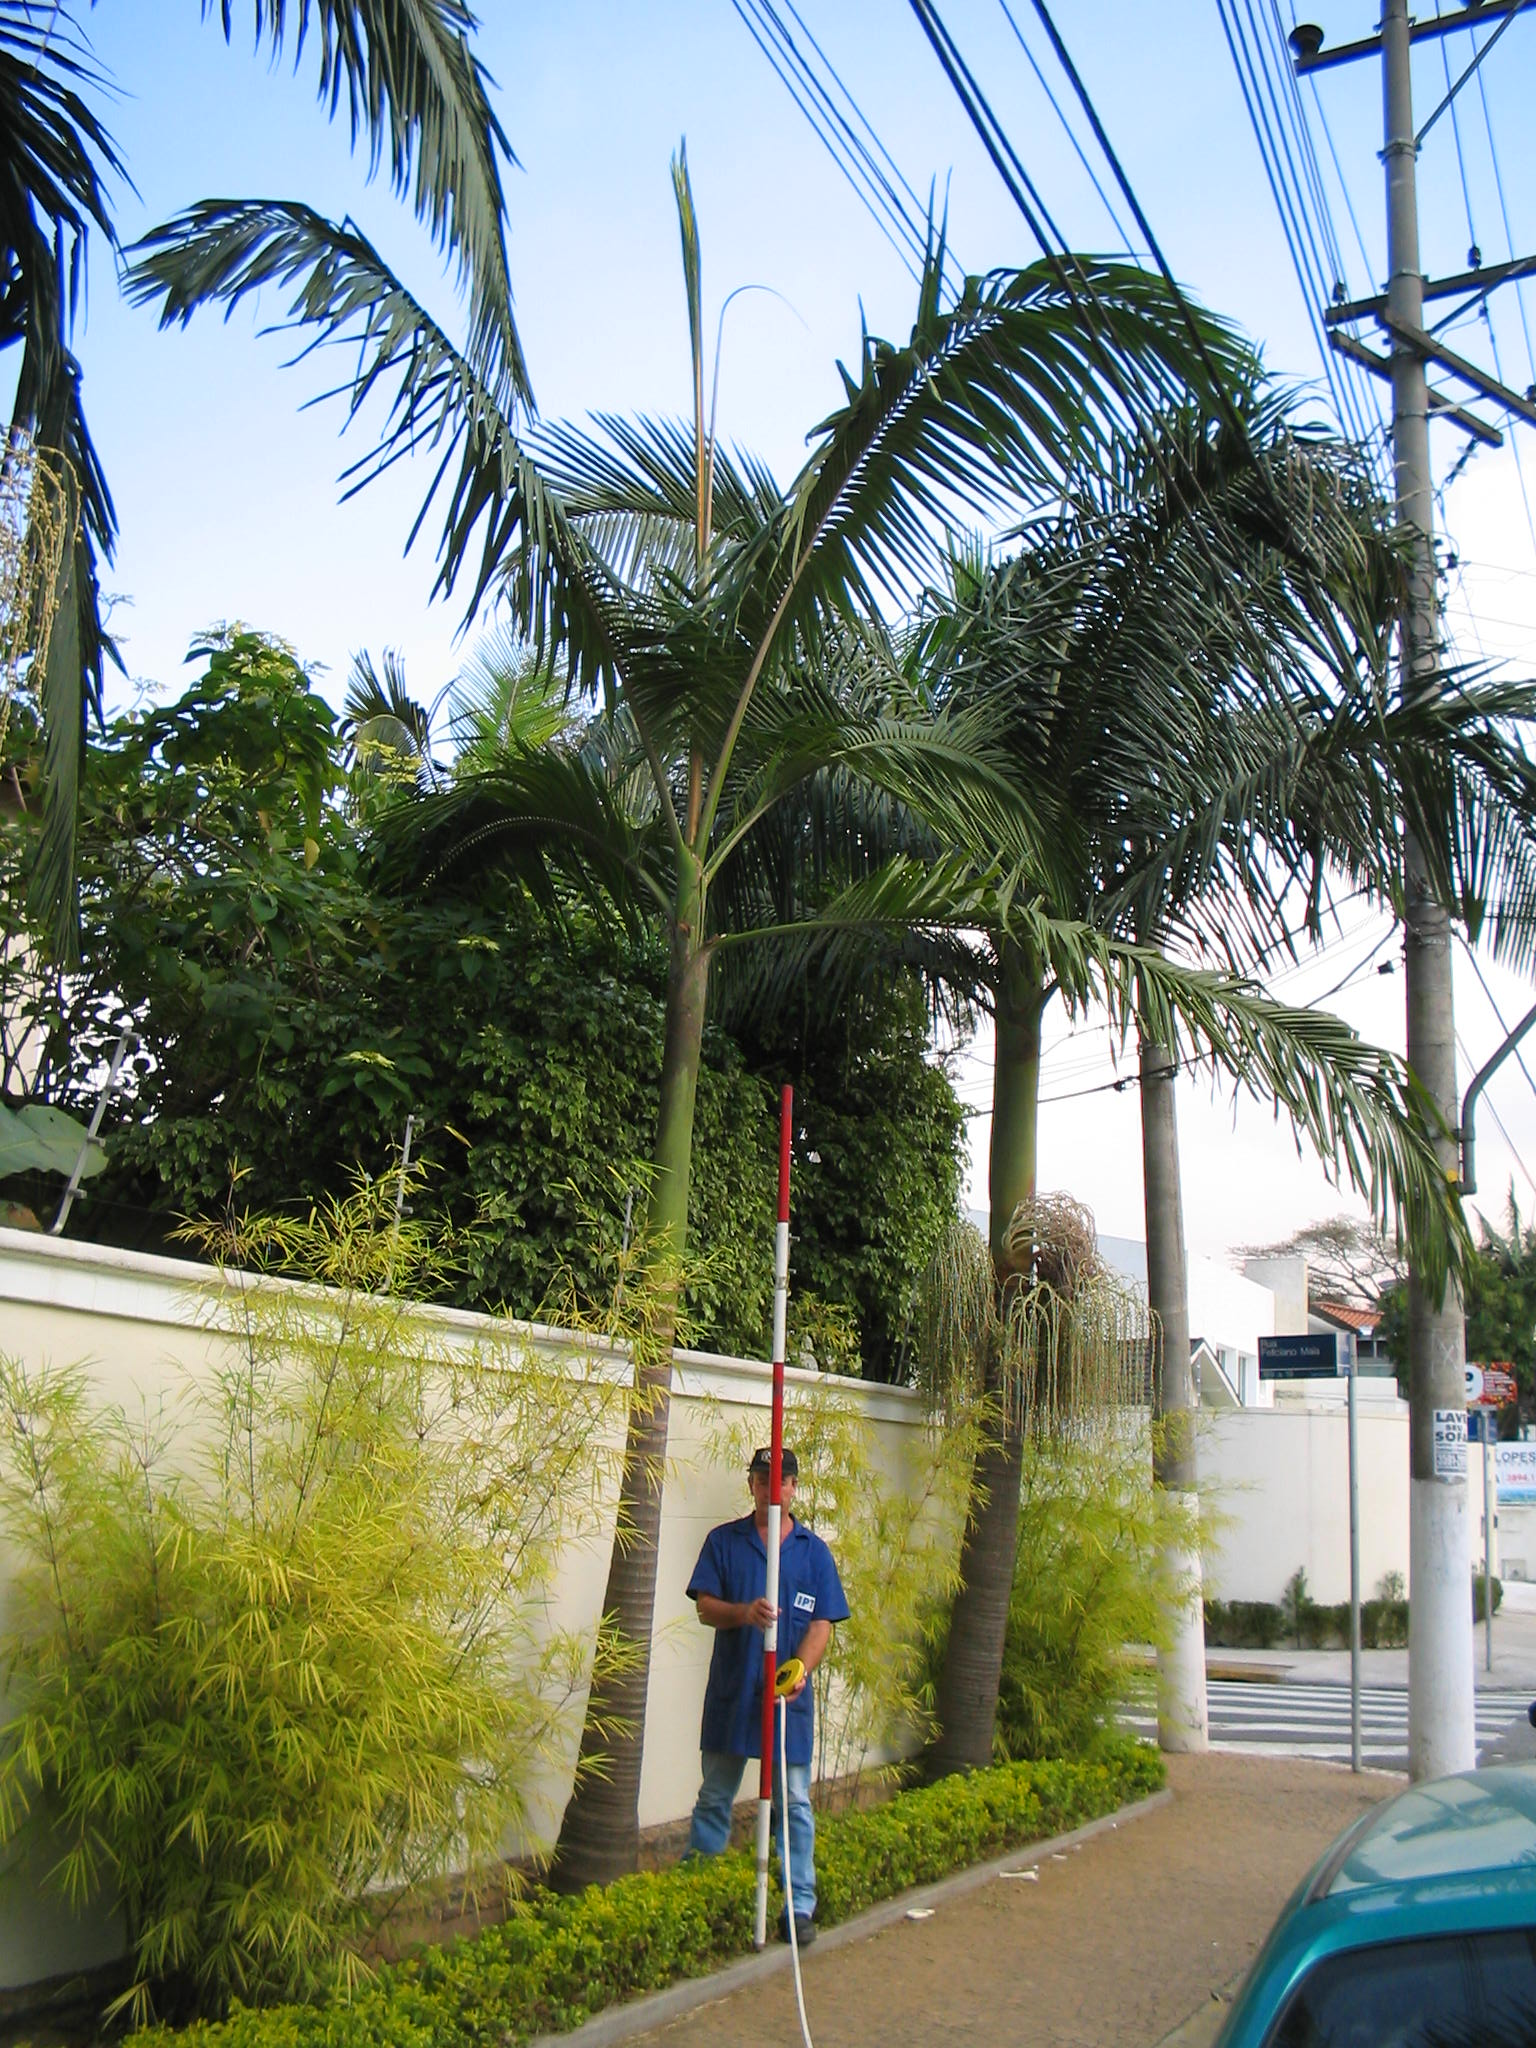crown: (127, 139, 1480, 1290), (745, 419, 1526, 1032)
stem: (528, 977, 733, 1896), (908, 1032, 1055, 1780)
stick: (745, 1077, 808, 1946)
tree: (119, 127, 1476, 1901), (728, 419, 1526, 1780)
